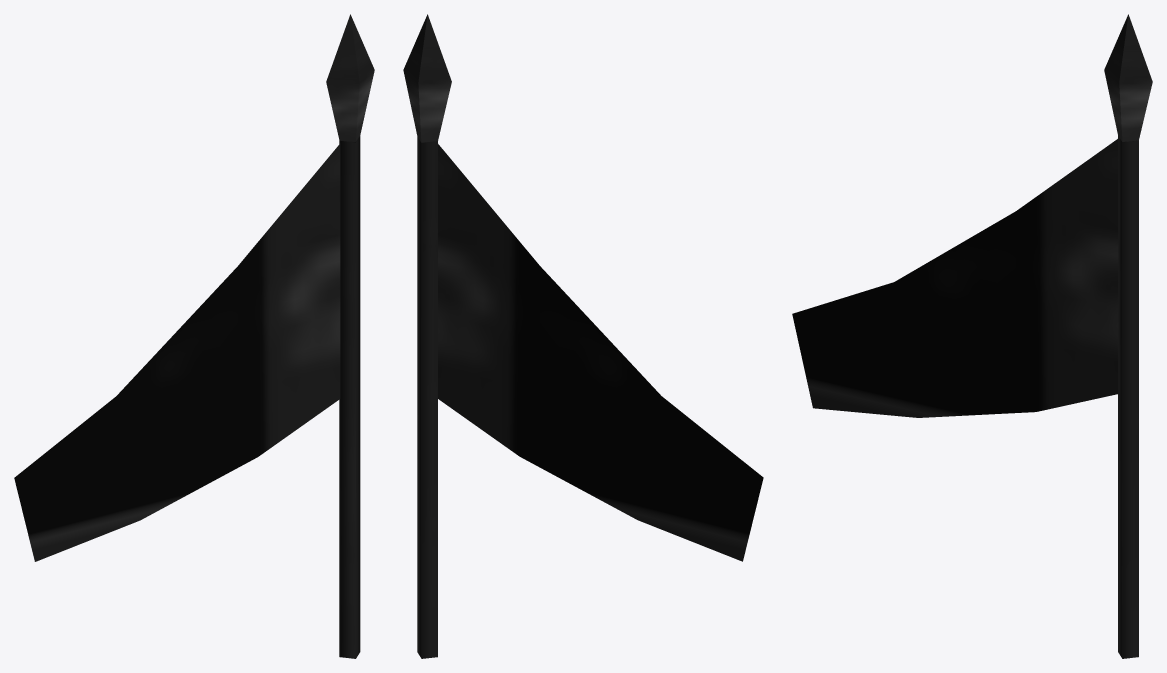
The model's file is qizi.FBX.
3 renders of one model, left to right at view 1: azimuth 30°, elevation 25°; view 2: azimuth 150°, elevation 25°; view 3: azimuth 330°, elevation 25°, orthographic.
Visible parts, largest first — view 1: Object034; view 2: Object034; view 3: Object034.
Boxes of the visible parts, left/top/right/bottom form: Object034: left=14, top=14, right=374, bottom=658; Object034: left=403, top=14, right=763, bottom=658; Object034: left=792, top=14, right=1152, bottom=658.
Bounding box in the file's own units: 165 × 280 × 14.7.
